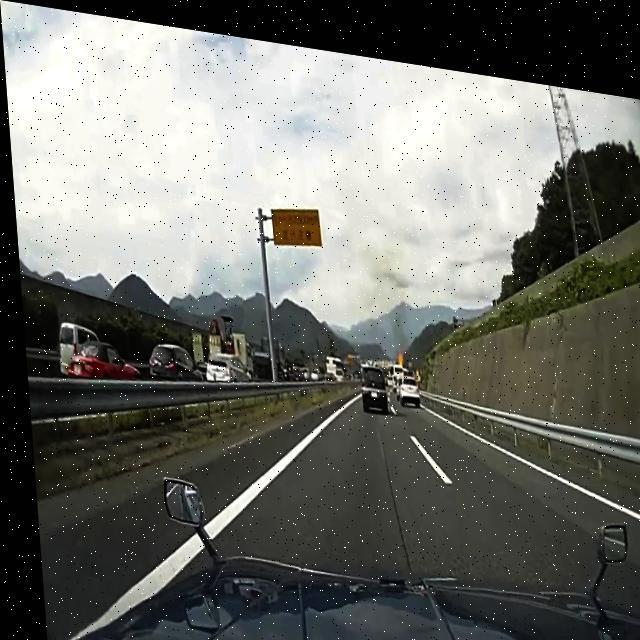Fire: (390, 338, 400, 354)
